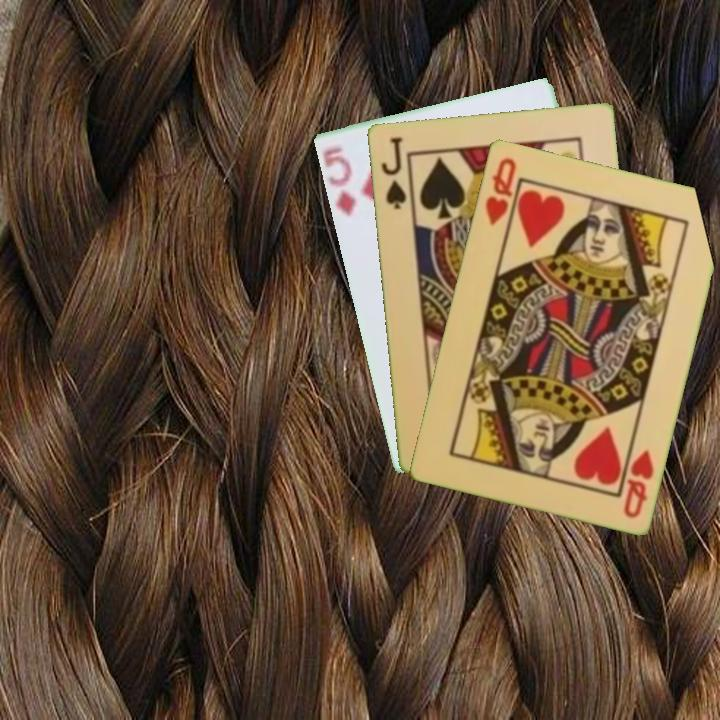5d: (319, 143, 358, 219)
Js: (377, 133, 409, 212)
Qh: (481, 153, 519, 229), (619, 445, 656, 521)
